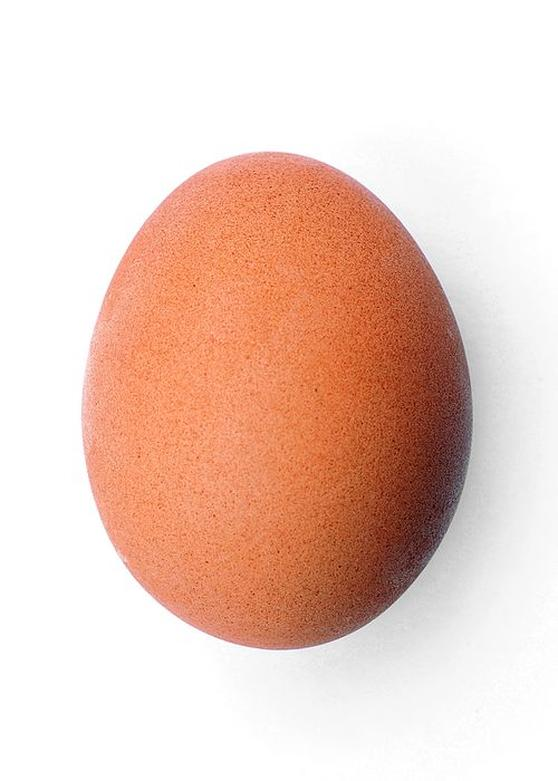egg: (83, 146, 470, 653)
